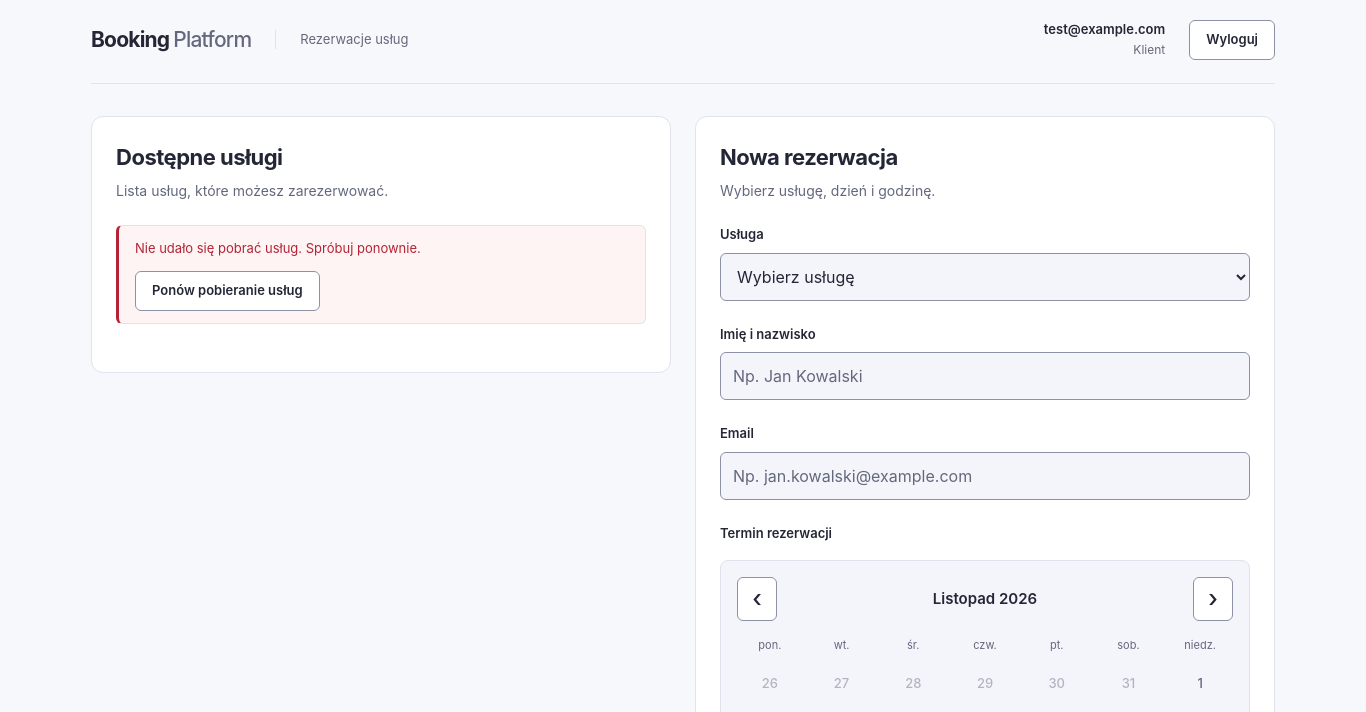
Scenario: list request recovery › recovers services and bookings independently without hiding another section’s failure
expect the button "Wyloguj" is shown: met, box x1=1189 y1=20 x2=1275 y2=60
expect the text "Nie udało się pobrać usług. Spróbuj ponownie." is shown: met, box x1=135 y1=240 x2=421 y2=256
Click the button "Ponów pobieranie usług".
click(227, 291)  # box x1=135 y1=271 x2=320 y2=311
(page scrolled)
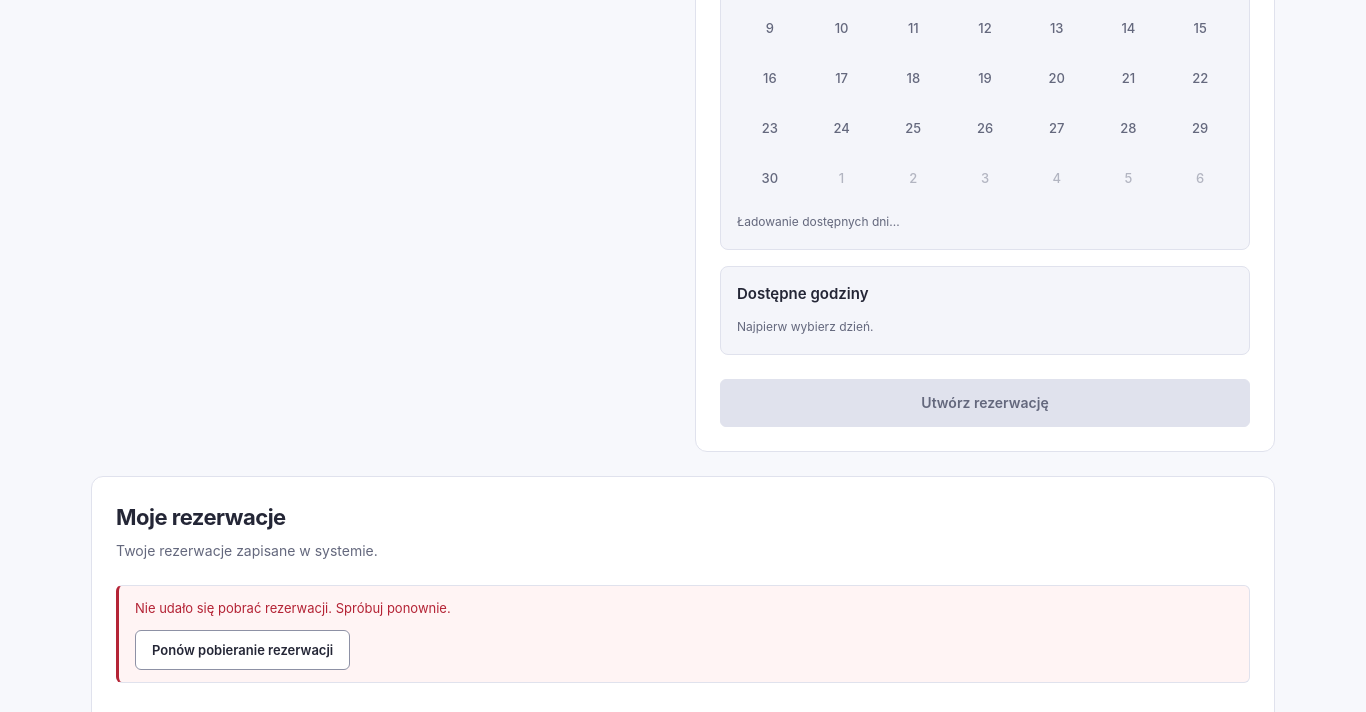
expect the text "Nie udało się pobrać rezerwacji. Spróbuj ponownie." is shown: met, box x1=135 y1=600 x2=451 y2=616
Click the button "Ponów pobieranie rezerwacji".
click(243, 650)  # box x1=135 y1=630 x2=350 y2=670
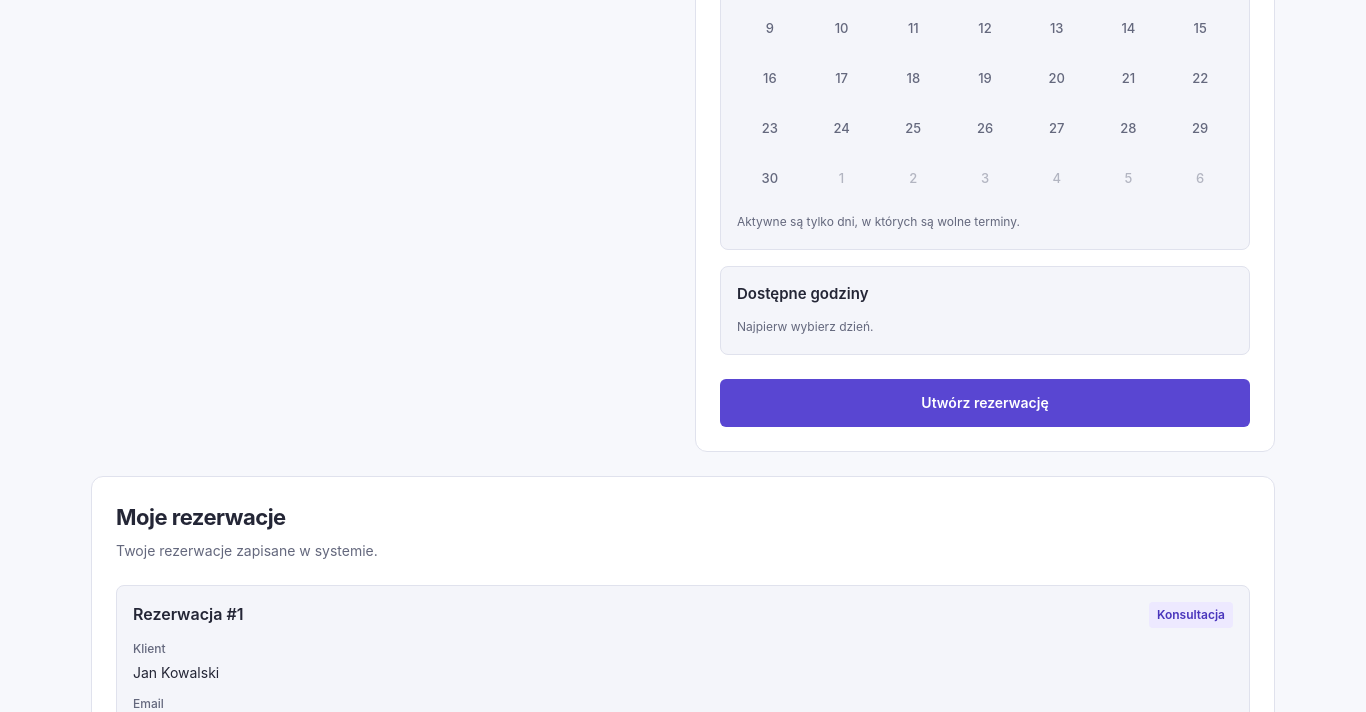
expect the heading "Rezerwacja #1" is shown: met, box x1=133 y1=602 x2=244 y2=626
expect the message "Ładowanie dostępnych dni..." is gone: met
